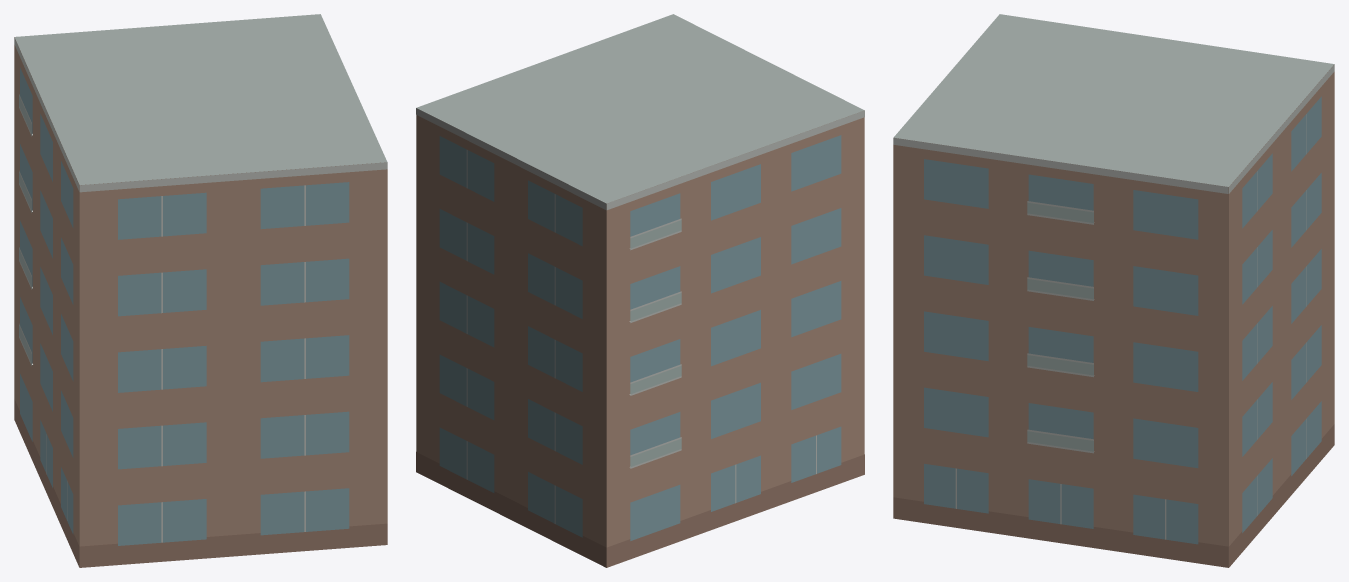
File: survey-upis-32933983.glb
3 views of the same model, side by side, from view 1: azimuth 30°, elevation 25°; view 2: azimuth 150°, elevation 25°; view 3: azimuth 270°, elevation 25° (orthographic). The views are drawn at different scales.
Visible parts, largest first — view 1: survey-upis-32933983.tmp; view 2: survey-upis-32933983.tmp; view 3: survey-upis-32933983.tmp.
Boxes of the visible parts, box(x1,y1,x2,y2) form: survey-upis-32933983.tmp: box(14, 14, 387, 567); survey-upis-32933983.tmp: box(416, 14, 864, 567); survey-upis-32933983.tmp: box(893, 14, 1334, 567).
Size of the model in its own units: 12.72 by 13.05 by 13.71.
